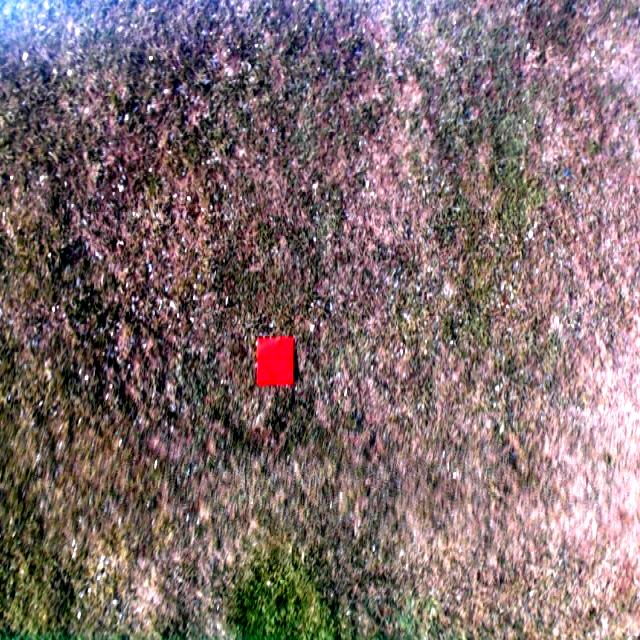red_square: (255, 336, 296, 387)
